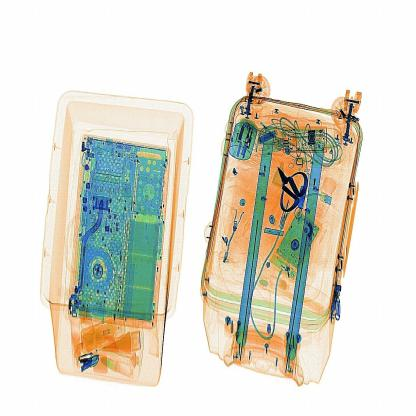gun: (272, 155, 312, 216)
